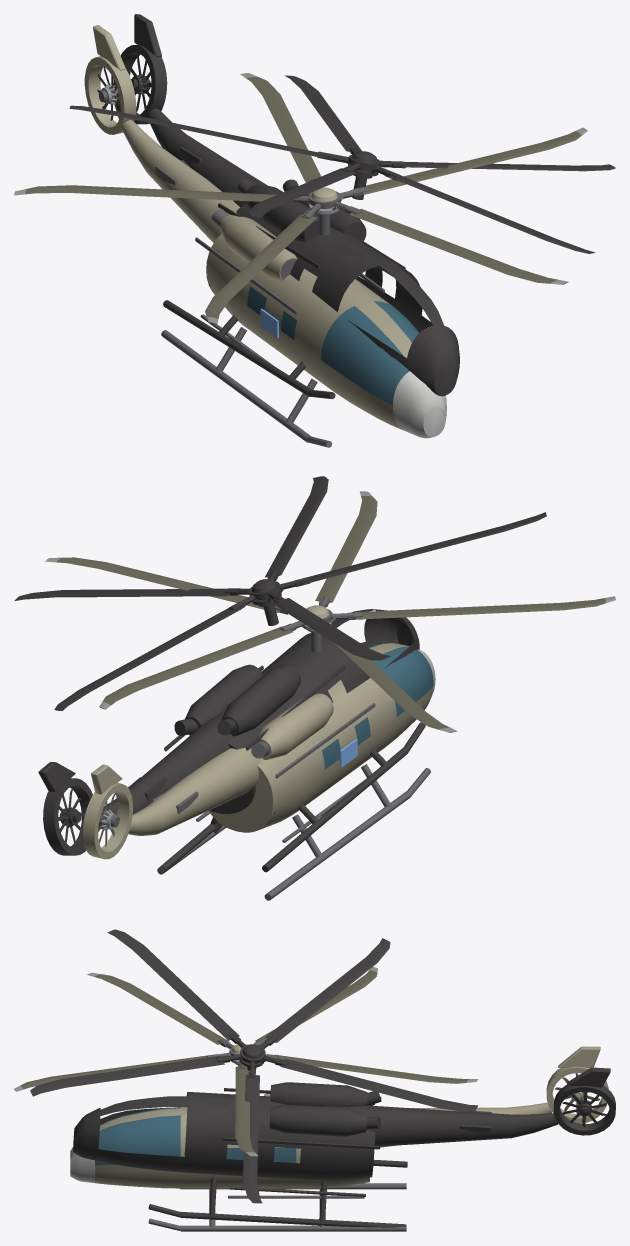
File: helicopter__h145_jupiter_hc2.glb
3 views of the same model, one above another, from view 1: azimuth 30°, elevation 25°; view 2: azimuth 150°, elevation 25°; view 3: azimuth 270°, elevation 25° (orthographic). The views are drawn at different scales.
Visible parts, largest first — view 1: Wreck, Fuselage_Mesh, Rotor_Main_Mesh, Fenestron_Mesh, Engines_Mesh, Landing_Gear_Mesh; view 2: Wreck, Fuselage_Mesh, Rotor_Main_Mesh, Engines_Mesh, Fenestron_Mesh, Landing_Gear_Mesh; view 3: Wreck, Fuselage_Mesh, Rotor_Main_Mesh, Landing_Gear_Mesh, Fenestron_Mesh.
Part boxes in pixels (x1=…): Wreck: x1=69, y1=14, x2=615, y2=399; Fuselage_Mesh: x1=121, y1=120, x2=446, y2=438; Rotor_Main_Mesh: x1=14, y1=73, x2=587, y2=323; Fenestron_Mesh: x1=84, y1=25, x2=136, y2=134; Engines_Mesh: x1=211, y1=208, x2=297, y2=280; Landing_Gear_Mesh: x1=161, y1=327, x2=331, y2=447; Wreck: x1=14, y1=476, x2=546, y2=872; Fuselage_Mesh: x1=128, y1=643, x2=435, y2=842; Rotor_Main_Mesh: x1=45, y1=491, x2=615, y2=732; Engines_Mesh: x1=251, y1=693, x2=333, y2=759; Fenestron_Mesh: x1=83, y1=764, x2=132, y2=859; Landing_Gear_Mesh: x1=157, y1=764, x2=430, y2=900; Wreck: x1=30, y1=929, x2=615, y2=1227; Fuselage_Mesh: x1=70, y1=1102, x2=551, y2=1198; Rotor_Main_Mesh: x1=14, y1=967, x2=477, y2=1156; Landing_Gear_Mesh: x1=148, y1=1183, x2=406, y2=1231; Fenestron_Mesh: x1=546, y1=1046, x2=608, y2=1123.
Size of what is drawn, in the model's own units: 10.57 by 5.44 by 13.39.
